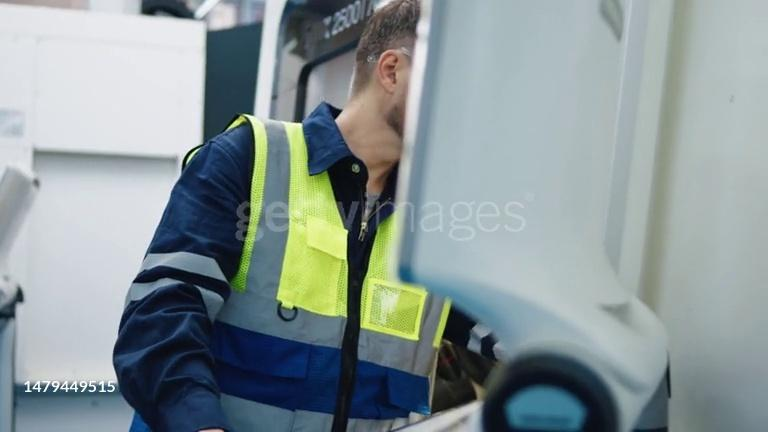person: (112, 1, 447, 432)
